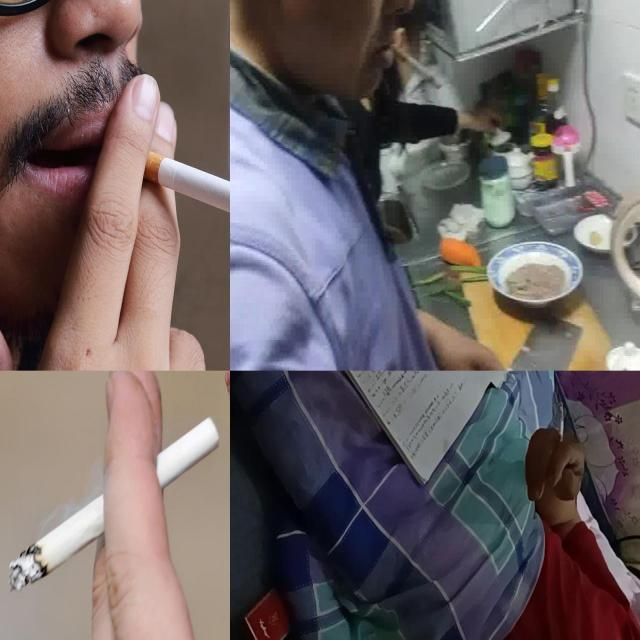smoking: (8, 414, 220, 594), (116, 140, 230, 227), (388, 40, 441, 90), (558, 402, 564, 449)
